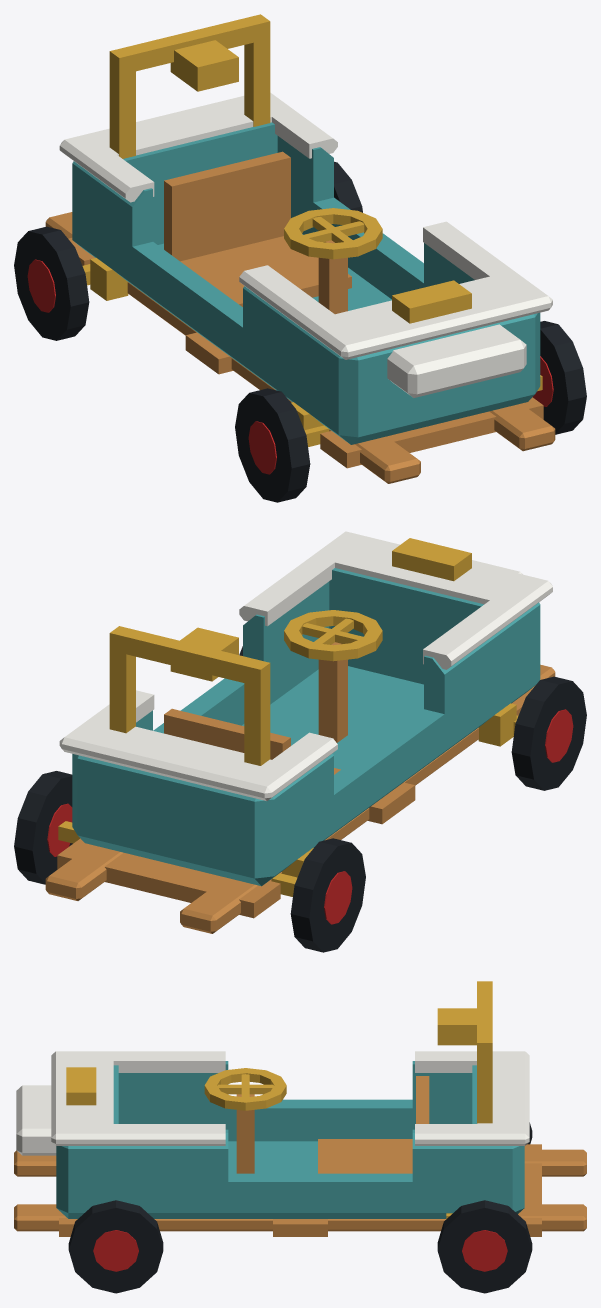
Rendered from veh_derby_bathtub_1p.glb.
3 renders of one model, top to bottom at view 1: azimuth 30°, elevation 25°; view 2: azimuth 150°, elevation 25°; view 3: azimuth 270°, elevation 25°, orthographic. The views are drawn at different scales.
Parts seen in each view (by area): view 1: tub_shell, porcelain_rim, body, derby_wheel, axle_f, steer_spin, wheel_hub; view 2: tub_shell, porcelain_rim, body, derby_wheel, axle_f, steer_spin, wheel_hub; view 3: tub_shell, porcelain_rim, body, derby_wheel, axle_f, wheel_hub, steer_spin.
Part boxes in pixels (x1=…): tub_shell: x1=72, y1=122, x2=540, y2=444; porcelain_rim: x1=59, y1=92, x2=552, y2=397; body: x1=45, y1=151, x2=555, y2=483; derby_wheel: x1=14, y1=161, x2=586, y2=502; axle_f: x1=82, y1=14, x2=542, y2=447; steer_spin: x1=284, y1=208, x2=382, y2=259; wheel_hub: x1=27, y1=259, x2=553, y2=474; tub_shell: x1=72, y1=568, x2=540, y2=886; porcelain_rim: x1=59, y1=531, x2=552, y2=800; body: x1=45, y1=642, x2=555, y2=933; derby_wheel: x1=14, y1=646, x2=586, y2=952; axle_f: x1=58, y1=538, x2=518, y2=896; steer_spin: x1=284, y1=610, x2=382, y2=661; wheel_hub: x1=47, y1=709, x2=573, y2=924; tub_shell: x1=56, y1=1061, x2=524, y2=1218; porcelain_rim: x1=16, y1=1051, x2=529, y2=1155; body: x1=14, y1=1076, x2=586, y2=1236; derby_wheel: x1=68, y1=1122, x2=532, y2=1293; axle_f: x1=66, y1=981, x2=492, y2=1218; wheel_hub: x1=93, y1=1230, x2=507, y2=1271; steer_spin: x1=204, y1=1068, x2=286, y2=1110.
Bounding box in the file's own units: 1.15 × 0.98 × 2.3.
